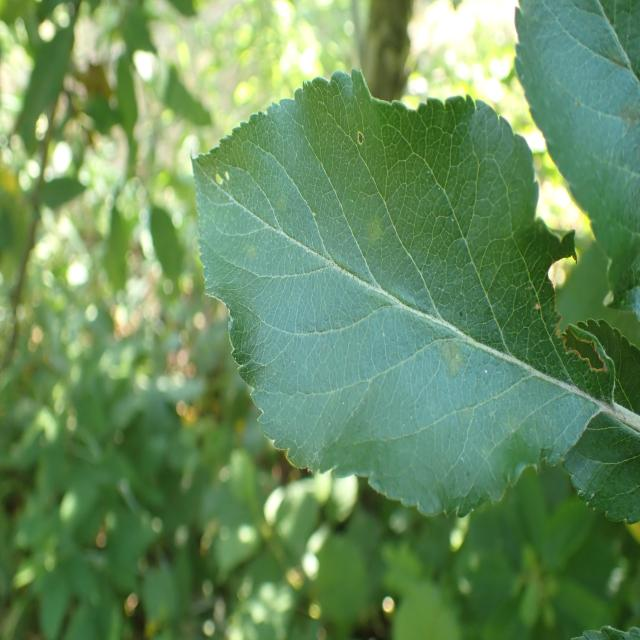scab: (193, 112, 539, 476), (603, 40, 640, 177)
